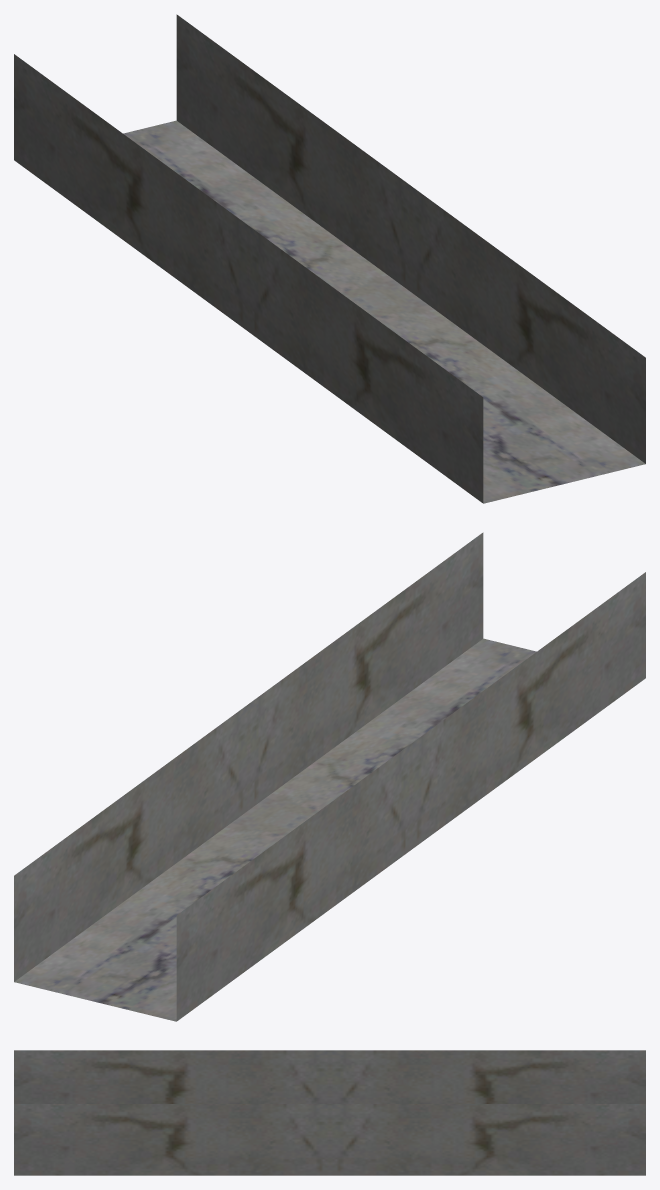
The model's file is arch_2m_middle_piece.fbx.
The picture shows the model from 3 angles, top to bottom: view 1: azimuth 30°, elevation 25°; view 2: azimuth 150°, elevation 25°; view 3: azimuth 270°, elevation 25°; orthographic projection. The views are drawn at different scales.
Visible parts, largest first — view 1: mesh_0; view 2: mesh_0; view 3: mesh_0.
Boxes of the visible parts, <box> form: mesh_0: <box>14,14,645,503</box>; mesh_0: <box>14,532,645,1021</box>; mesh_0: <box>14,1050,645,1175</box>.
Bounding box in the file's own units: 40 × 25 × 200.
Materials: 1 (1 with a texture image).
